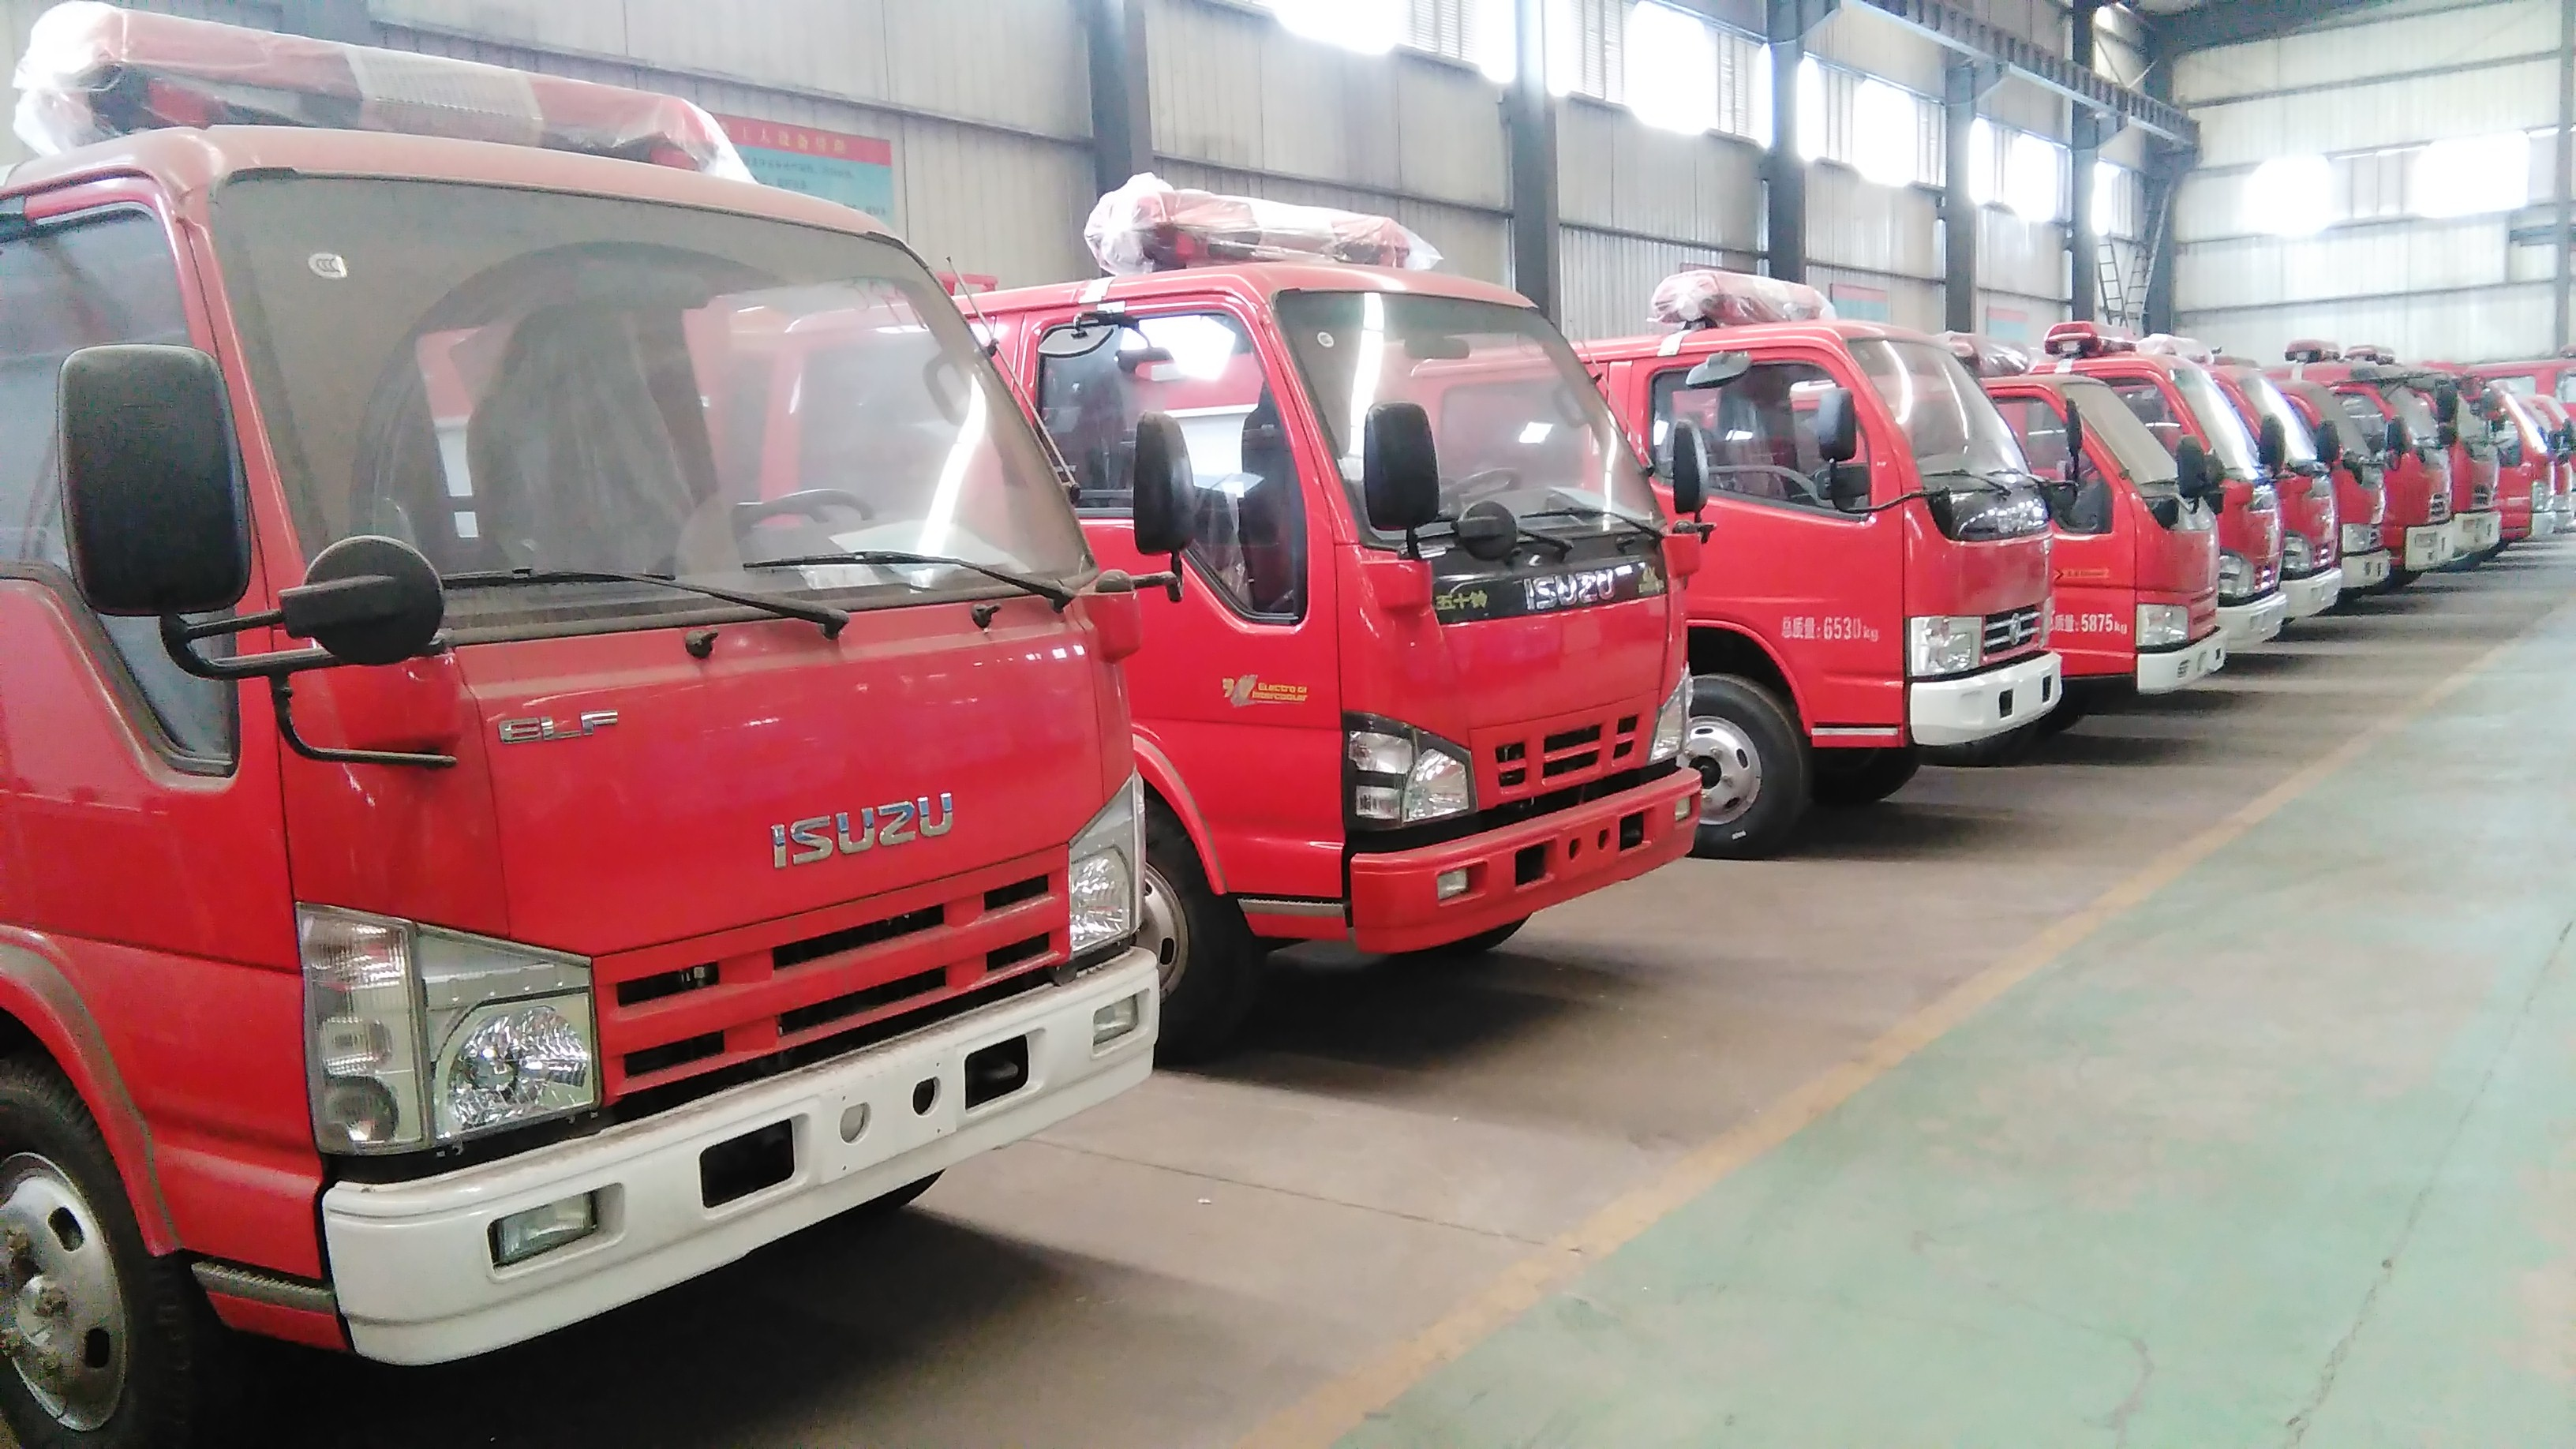fire engine: (936, 138, 1713, 996)
